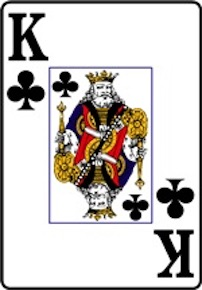KingOfClubs: (1, 1, 201, 290)
